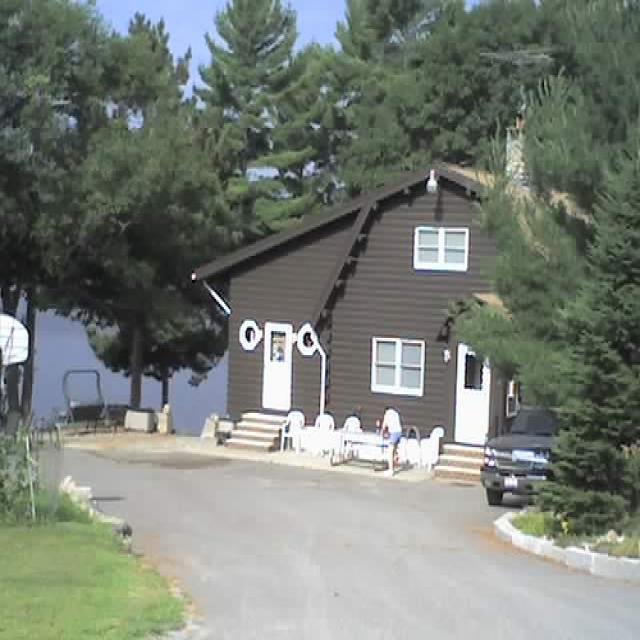light_vehicle: (482, 406, 560, 502)
